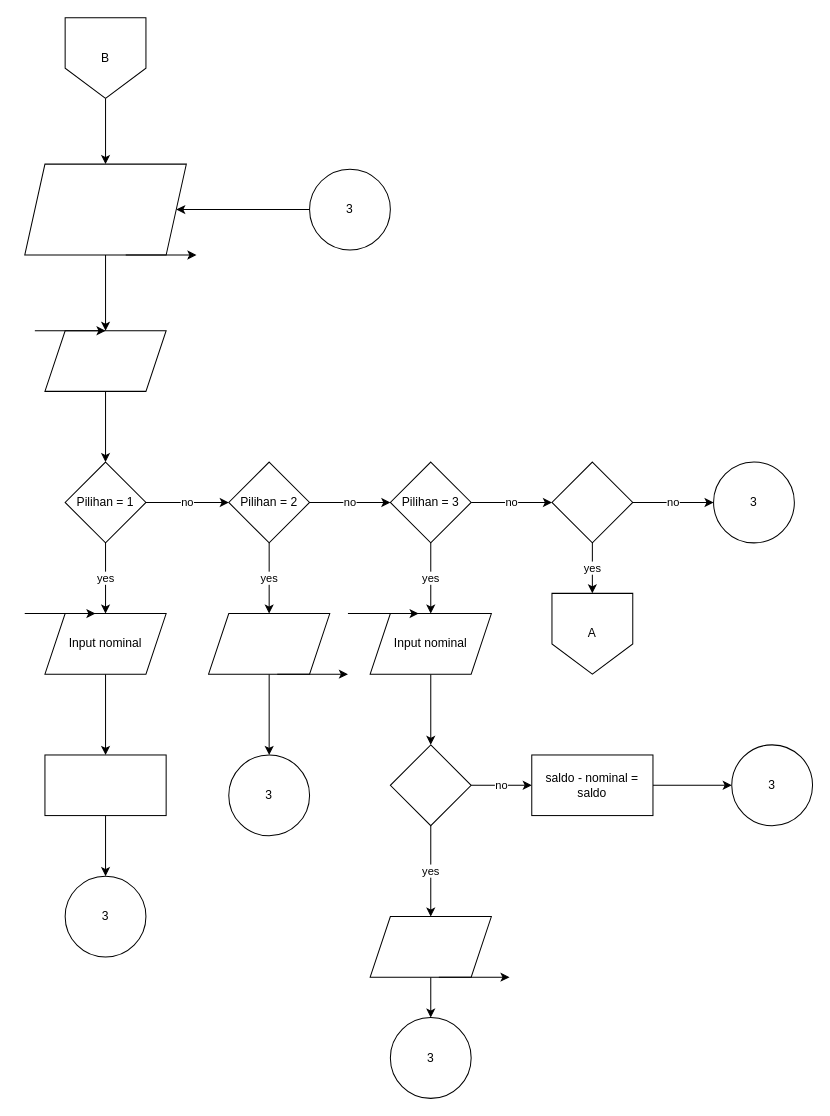
Image size: 830x1116. Some labels were removed from this diagram. The shapes that lost their labels are listed below. From the top down, each one's centre as x and y in pixels, then its label:
point 105,209: Menu: 1.Setor tunai 2.cek saldo 3.tarik tunai 0.keluar
point 105,360: Input pilihan
point 592,502: Pilihan = 0
point 269,643: Tampilkan saldo
point 105,785: saldo + nominal = saldo
point 430,785: saldo < nominal
point 430,946: saldo anda kurang
